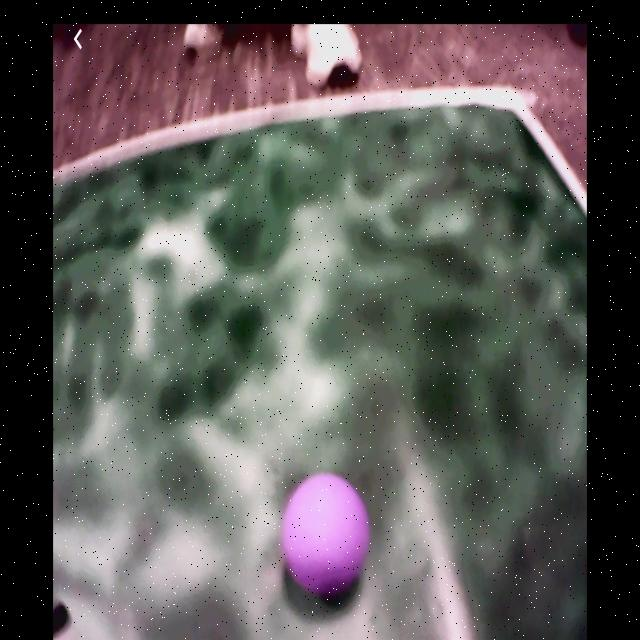ball: (284, 473, 370, 597)
